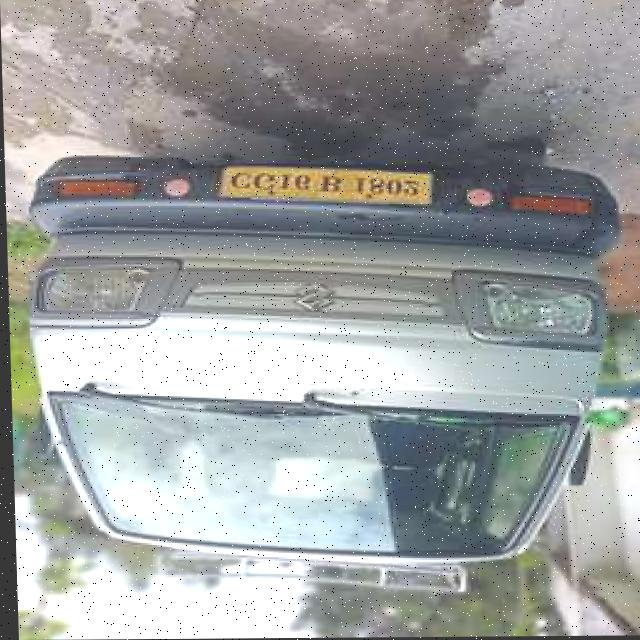plate: (219, 166, 433, 208)
